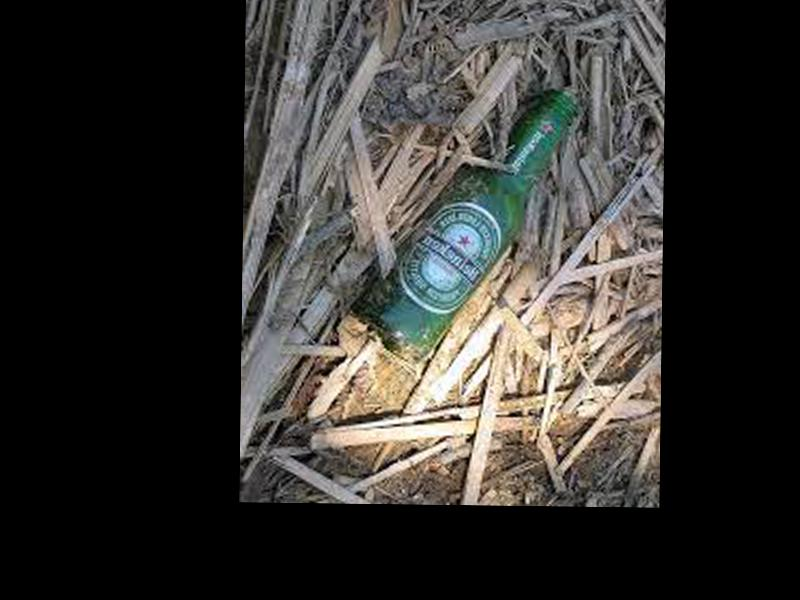Beer: (353, 83, 575, 363)
